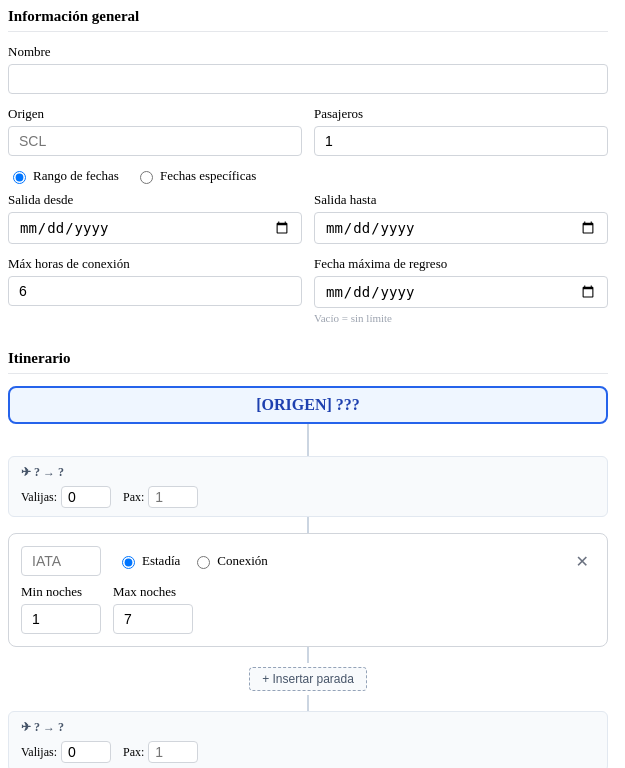
Test case: SearchForm › switching to connection type swaps stay inputs for hours input
Expected: the radio button labelled "Estadía" is checked, [122,556,135,569]
Click the radio button labelled "Conexión" at (204, 562), box [197,556,210,569]
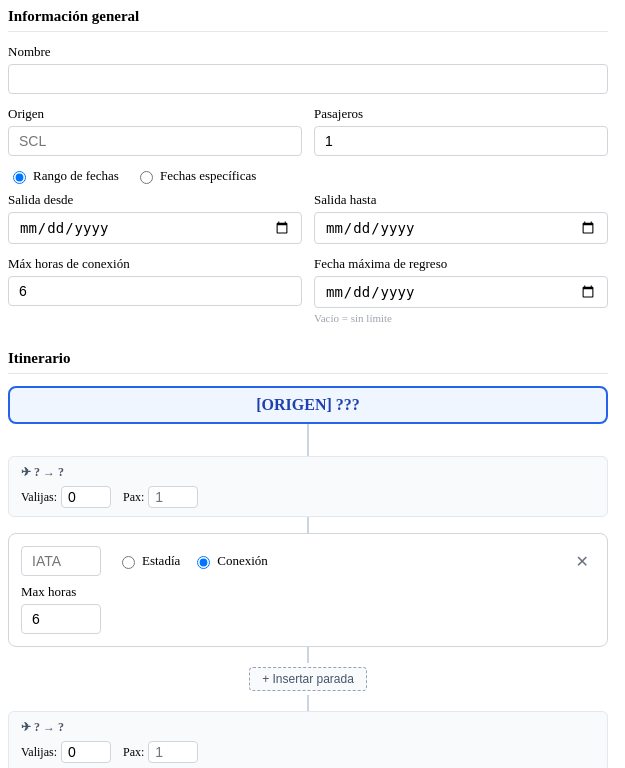
Result: the number field with test id "waypoint-maxhours" is shown at [21,604,101,634]
Result: the number field with test id "waypoint-mindays" is gone
